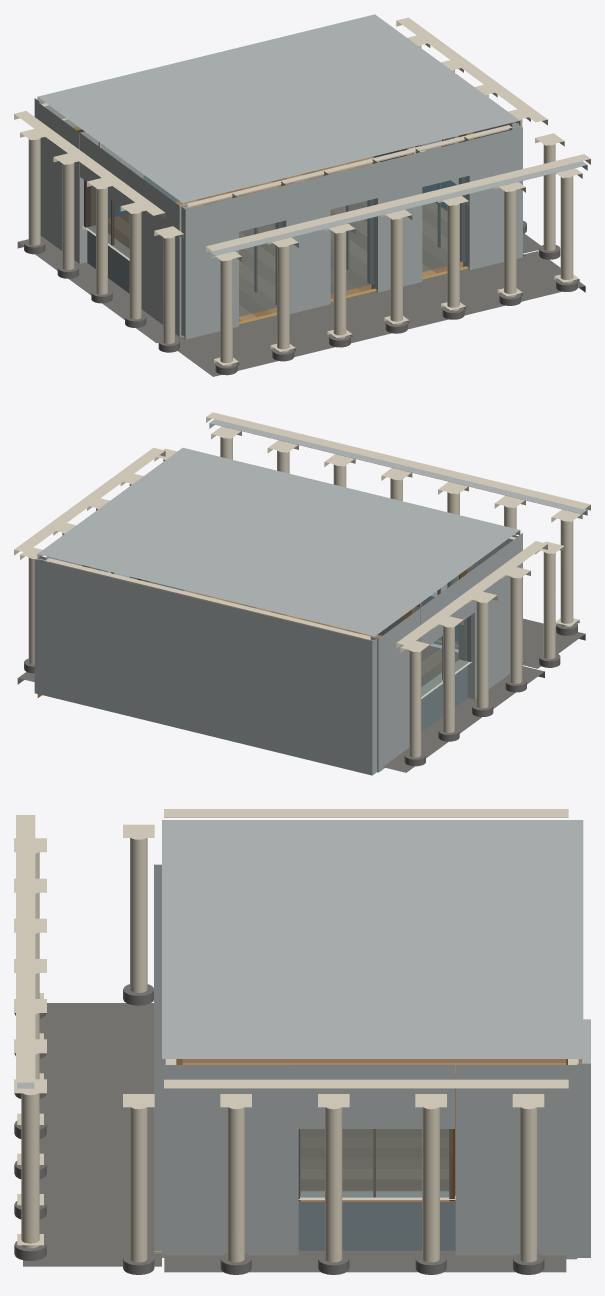
Rendered from salon.glb.
3 views of the same model, one above another, from view 1: azimuth 30°, elevation 25°; view 2: azimuth 150°, elevation 25°; view 3: azimuth 270°, elevation 25° (orthographic). The views are drawn at different scales.
Visible parts, largest first — view 1: ceiling, lake loggia floor, lake wall pier 0, lake wall pier last, lake wall pier 1, lake wall pier 2, side wall lower rear -1, side wall lower front -1, lake window glass 0, loggia front entablature, lake window glass 1, lake window glass 2 (+26 smaller); view 2: ceiling, rear wall, side wall lower rear -1, side wall lower front -1, loggia front entablature, loggia front fascia, side loggia return -1, side gallery entablature 1, side gallery entablature -1, side window glass -1, rear cornice, side window header -1 (+9 smaller); view 3: ceiling, lake loggia floor, side wall lower front 1, side wall lower rear 1, side window glass 1, side window header 1, side dado 1, side loggia return 1, loggia front entablature, side gallery entablature 1, side gallery entablature -1, rear wall (+17 smaller).
Boxes of the visible parts, left/top/right/bottom form: ceiling: left=37, top=14, right=520, bottom=202; lake loggia floor: left=178, top=251, right=585, bottom=376; lake wall pier 0: left=181, top=196, right=238, bottom=339; lake wall pier last: left=464, top=127, right=522, bottom=270; lake wall pier 1: left=281, top=174, right=330, bottom=313; lake wall pier 2: left=372, top=152, right=422, bottom=292; side wall lower rear -1: left=37, top=102, right=87, bottom=263; side wall lower front -1: left=134, top=173, right=187, bottom=338; lake window glass 0: left=239, top=221, right=282, bottom=316; loggia front entablature: left=206, top=154, right=590, bottom=252; lake window glass 1: left=330, top=199, right=374, bottom=294; lake window glass 2: left=422, top=176, right=465, bottom=271; ceiling: left=37, top=447, right=520, bottom=636; rear wall: left=34, top=559, right=376, bottom=775; side wall lower rear -1: left=370, top=608, right=420, bottom=772; side wall lower front -1: left=466, top=535, right=520, bottom=699; loggia front entablature: left=206, top=412, right=590, bottom=510; loggia front fascia: left=209, top=419, right=587, bottom=515; side loggia return -1: left=383, top=666, right=544, bottom=772; side gallery entablature 1: left=14, top=447, right=165, bottom=555; side gallery entablature -1: left=396, top=541, right=547, bottom=648; side window glass -1: left=421, top=615, right=471, bottom=696; rear cornice: left=38, top=558, right=373, bottom=640; side window header -1: left=413, top=567, right=476, bottom=650; ceiling: left=162, top=820, right=583, bottom=1058; lake loggia floor: left=23, top=1003, right=161, bottom=1266; side wall lower front 1: left=166, top=1065, right=298, bottom=1255; side wall lower rear 1: left=455, top=1065, right=577, bottom=1259; side window glass 1: left=299, top=1129, right=450, bottom=1197; side window header 1: left=294, top=1064, right=454, bottom=1128; side dado 1: left=298, top=1202, right=455, bottom=1250; side loggia return 1: left=164, top=1250, right=566, bottom=1272; loggia front entablature: left=16, top=815, right=35, bottom=1082; side gallery entablature 1: left=164, top=1079, right=568, bottom=1088; side gallery entablature -1: left=164, top=809, right=568, bottom=817; rear wall: left=577, top=1019, right=590, bottom=1257.
Bounding box in the file's own units: 13.73 × 4.75 × 11.84.
